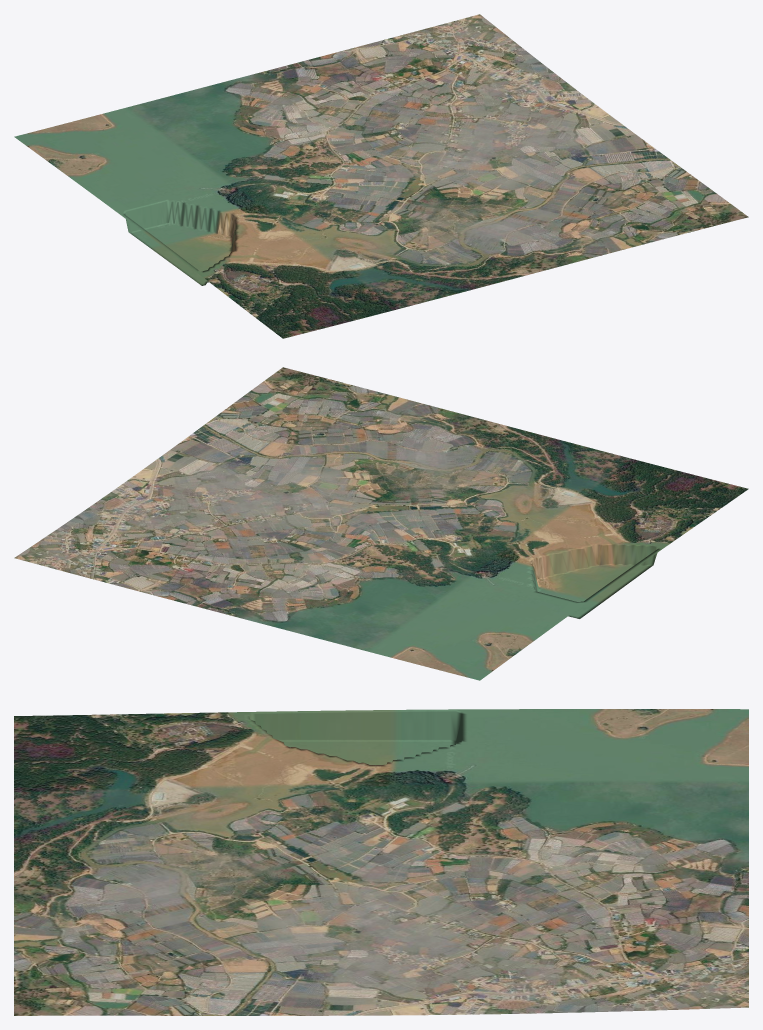
The model's file is terrain_real_T_W03_N04.glb.
3 renders of one model, top to bottom at view 1: azimuth 30°, elevation 25°; view 2: azimuth 150°, elevation 25°; view 3: azimuth 270°, elevation 25°, orthographic. The views are drawn at different scales.
Parts seen in each view (by area): view 1: Terrain_Real_DEM_T_W03_N04; view 2: Terrain_Real_DEM_T_W03_N04; view 3: Terrain_Real_DEM_T_W03_N04.
Part boxes in pixels (x1,y1,x2,y2): Terrain_Real_DEM_T_W03_N04: (14, 14, 748, 338); Terrain_Real_DEM_T_W03_N04: (14, 367, 748, 680); Terrain_Real_DEM_T_W03_N04: (14, 709, 748, 1015).
Size of the model in its own units: 2000 by 114 by 2000.
1 material, 1 textured.
